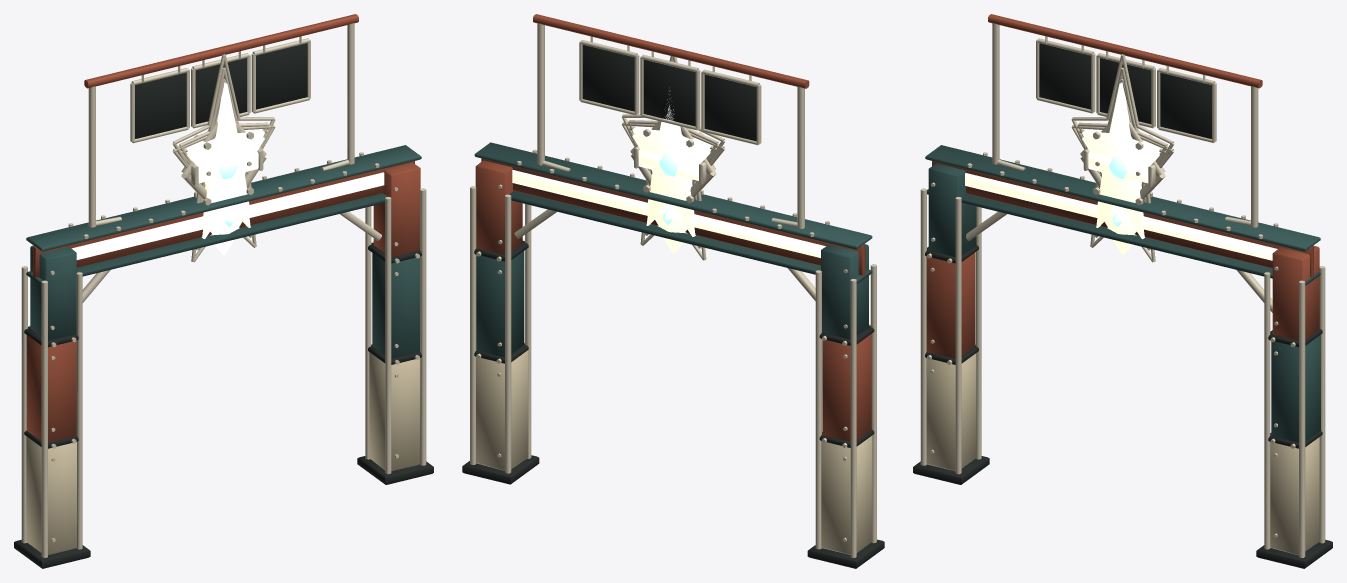
File: reward_gate.glb
The picture shows the model from 3 angles, left to right: view 1: azimuth 30°, elevation 25°; view 2: azimuth 150°, elevation 25°; view 3: azimuth 330°, elevation 25°; orthographic projection.
Visible parts, largest first — view 1: Arch, Topper_evolved, GlyphPlate2, GlyphPlate0, Topper_relic, GlyphPlate1, Topper_common, Topper_rare; view 2: Arch, Topper_evolved, GlyphPlate2, GlyphPlate0, GlyphPlate1, Topper_relic, Topper_common, Topper_rare; view 3: Arch, Topper_evolved, GlyphPlate0, GlyphPlate2, Topper_relic, GlyphPlate1, Topper_common, Topper_rare.
Boxes of the visible parts, x1,y1,x2,y2 form: Arch: (14,14,433,568); Topper_evolved: (172,54,275,262); GlyphPlate2: (251,36,310,113); GlyphPlate0: (130,66,189,143); Topper_relic: (172,79,275,224); GlyphPlate1: (191,51,250,128); Topper_common: (191,148,263,186); Topper_rare: (181,120,266,199); Arch: (462,14,884,568); Topper_evolved: (622,56,725,260); GlyphPlate2: (579,36,639,115); GlyphPlate0: (701,66,761,145); GlyphPlate1: (640,51,700,130); Topper_relic: (622,106,725,222); Topper_common: (634,146,706,184); Topper_rare: (630,121,716,197); Arch: (913,14,1332,568); Topper_evolved: (1071,54,1174,262); GlyphPlate0: (1036,36,1095,113); GlyphPlate2: (1157,66,1216,143); Topper_relic: (1071,79,1174,224); GlyphPlate1: (1096,51,1155,128); Topper_common: (1083,148,1155,186); Topper_rare: (1080,120,1165,199).
Size of the model in its own units: 9.7 by 10.93 by 1.2.
